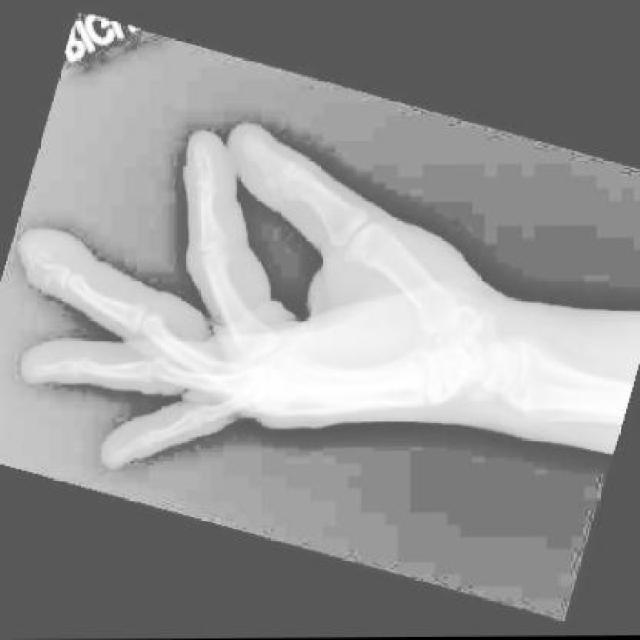Fracture: (12, 237, 66, 290), (182, 137, 221, 182)
